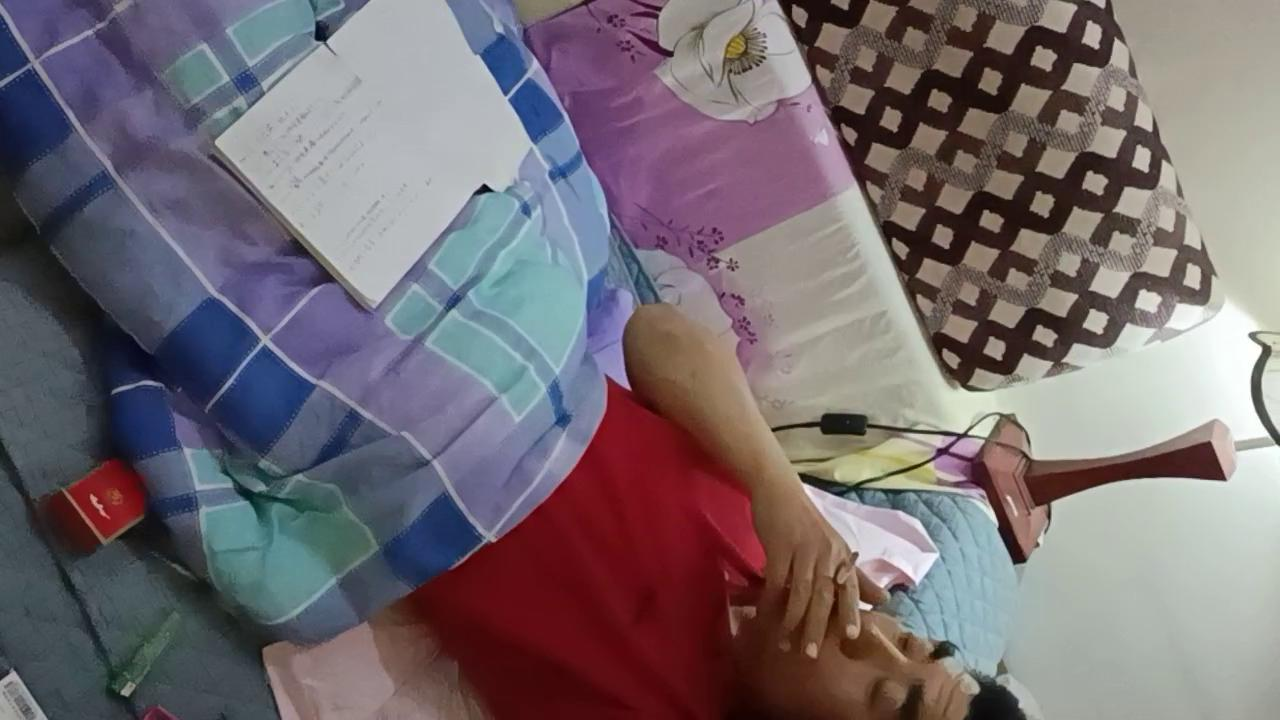smoke: (829, 551, 860, 598)
